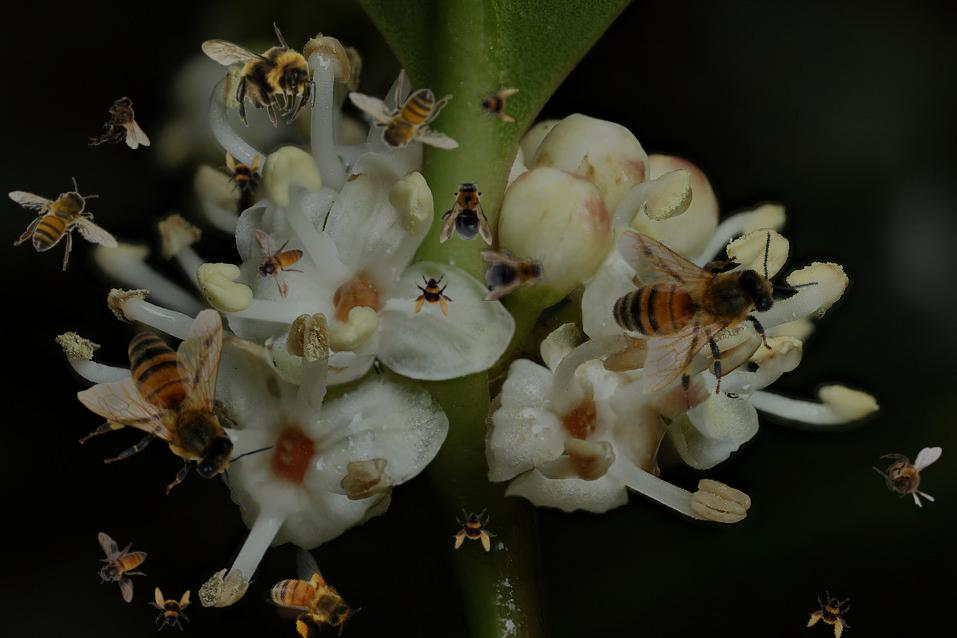Bee: (564, 176, 831, 440), (77, 308, 276, 512), (201, 21, 316, 128), (254, 542, 366, 638), (8, 177, 119, 271), (348, 69, 459, 163), (476, 241, 552, 303), (872, 447, 942, 508), (97, 532, 147, 603), (254, 229, 304, 300), (440, 177, 492, 245), (88, 96, 150, 149), (804, 587, 860, 638), (148, 587, 192, 631), (475, 81, 519, 125), (219, 151, 263, 195), (453, 508, 497, 552), (412, 273, 456, 317)
